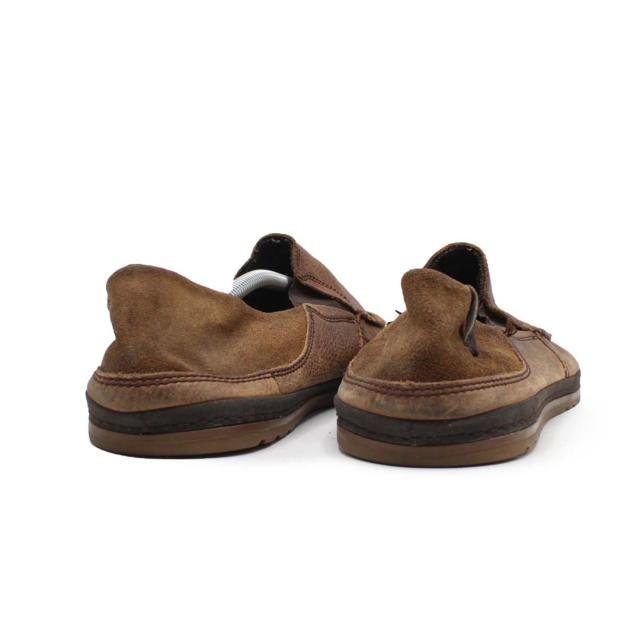heel: (85, 265, 315, 411), (337, 270, 514, 418)
midsole: (332, 369, 583, 466), (87, 377, 340, 457)
